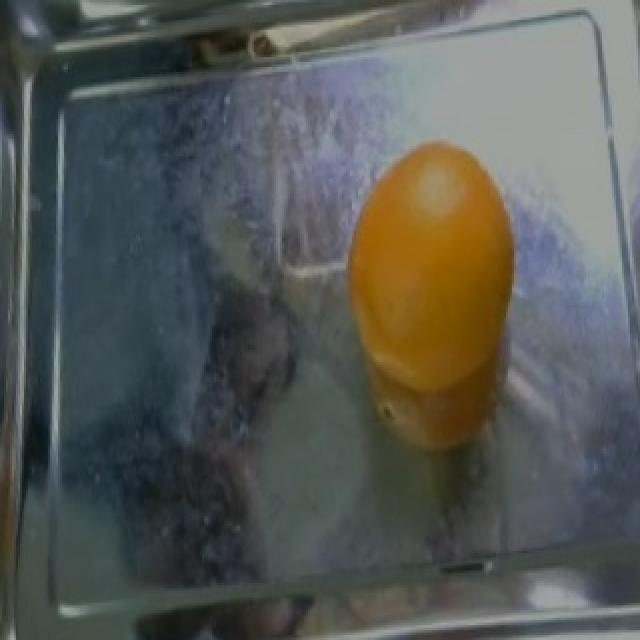Fruit: (334, 129, 526, 466)
